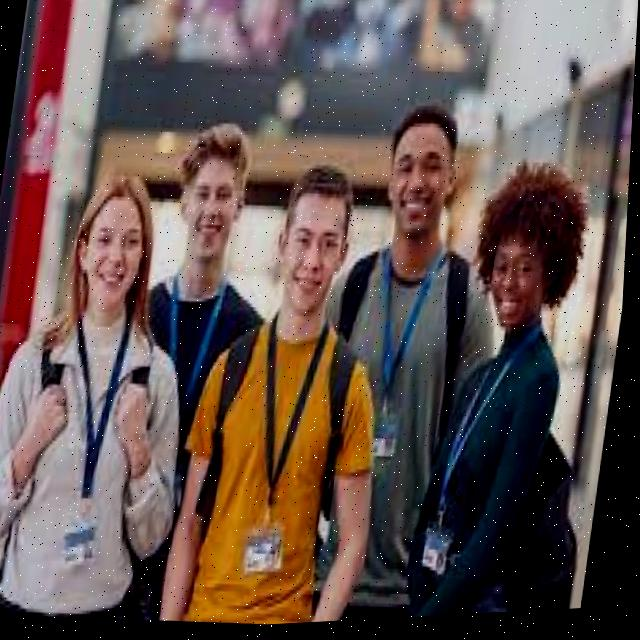id_card: (41, 300, 156, 578), (420, 342, 533, 585), (237, 310, 331, 583), (351, 236, 448, 464), (157, 271, 234, 389)
